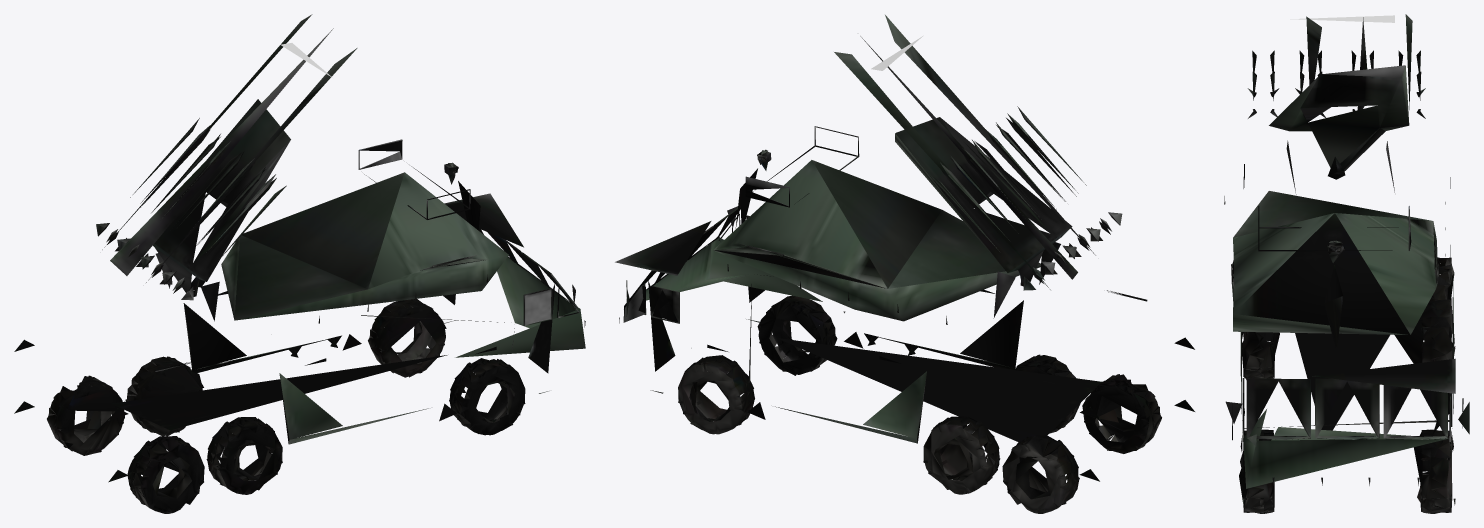
The model's file is buk_lo.glb.
The picture shows the model from 3 angles, left to right: view 1: azimuth 30°, elevation 25°; view 2: azimuth 150°, elevation 25°; view 3: azimuth 270°, elevation 25°; orthographic projection. The views are drawn at different scales.
Visible parts, largest first — view 1: g_buk_hull; view 2: g_buk_hull; view 3: g_buk_hull.
Part boxes in pixels (x1,y1,x2,y2): g_buk_hull: (14, 14, 585, 513); g_buk_hull: (615, 15, 1194, 513); g_buk_hull: (1224, 14, 1469, 513).
Bounding box in the file's own units: 9 × 6.93 × 3.53.
Materials: 2 (1 with a texture image).
